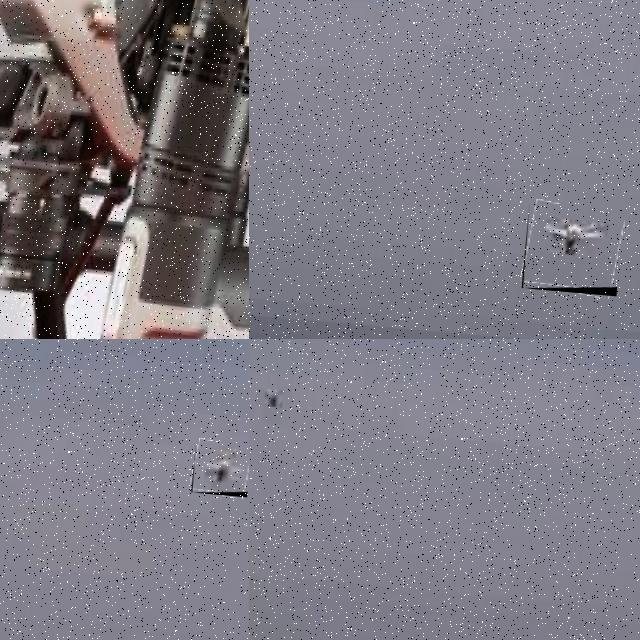0: (522, 201, 624, 296), (190, 439, 249, 497)
drone: (0, 0, 249, 339)
